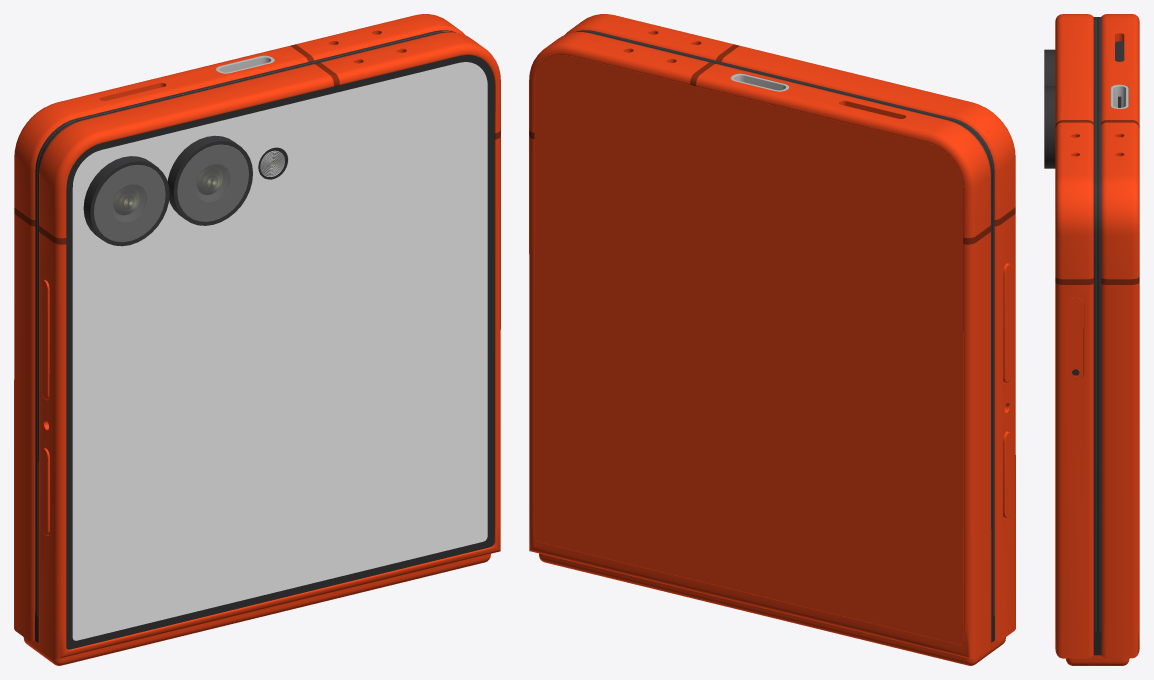
The model's file is galaxy-z-flip-7-closed.glb.
The picture shows the model from 3 angles, left to right: view 1: azimuth 30°, elevation 25°; view 2: azimuth 150°, elevation 25°; view 3: azimuth 270°, elevation 25°; orthographic projection. The views are drawn at different scales.
Visible parts, largest first — view 1: screen, object 1, object 2, object 5, object 11, object 10, object 6, object 4; view 2: object 7, object 1, object 5, object 4; view 3: object 1, object 5, object 4, object 8, object 2, object 6.
Part boxes in pixels (left/top/right/bottom): screen: left=72, top=62, right=487, bottom=640; object 1: left=14, top=14, right=500, bottom=665; object 2: left=35, top=55, right=494, bottom=649; object 5: left=35, top=30, right=455, bottom=617; object 11: left=94, top=145, right=248, bottom=241; object 10: left=113, top=167, right=222, bottom=215; object 6: left=101, top=153, right=249, bottom=242; object 4: left=14, top=44, right=500, bottom=244; object 7: left=534, top=55, right=963, bottom=644; object 1: left=529, top=14, right=1015, bottom=665; object 5: left=575, top=30, right=994, bottom=616; object 4: left=529, top=44, right=1015, bottom=244; object 1: left=1055, top=14, right=1139, bottom=665; object 5: left=1044, top=17, right=1101, bottom=632; object 4: left=1055, top=120, right=1139, bottom=284; object 8: left=1110, top=84, right=1128, bottom=108; object 2: left=1093, top=96, right=1121, bottom=655; object 6: left=1072, top=41, right=1124, bottom=375.
Size of the model in its own units: 0.0755 by 0.0855 by 0.0155.
13 materials, 1 textured.
